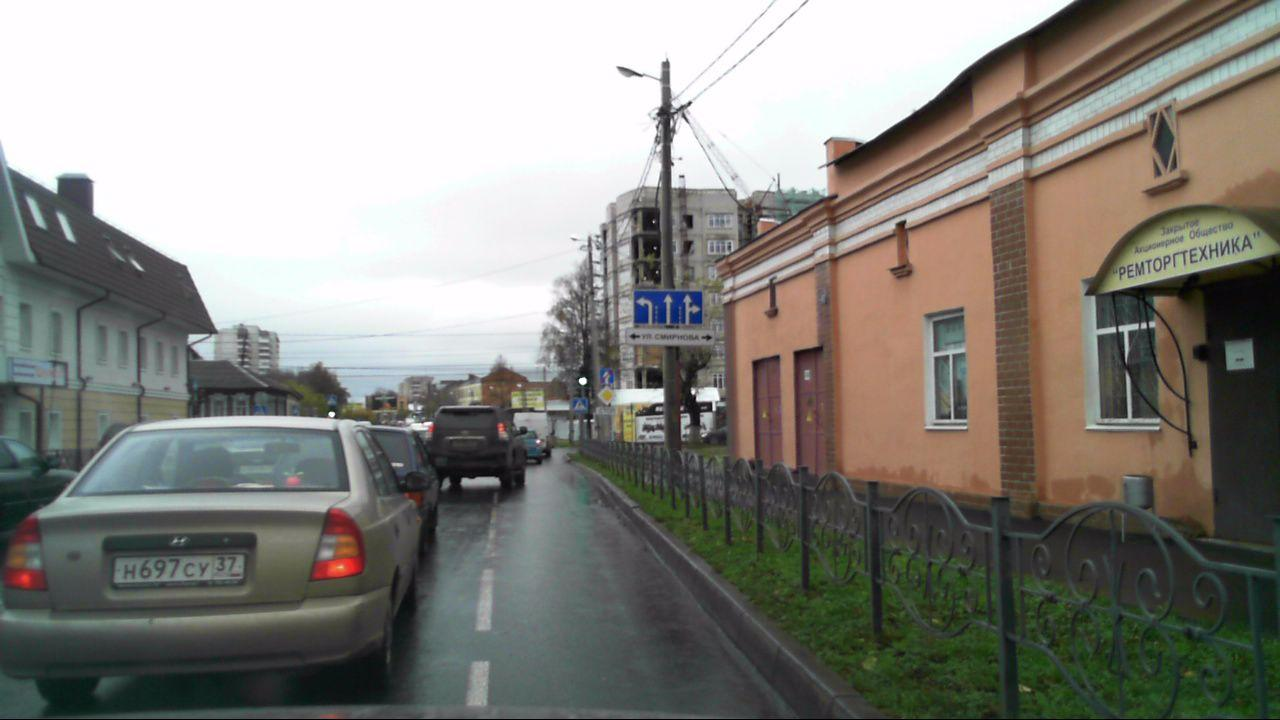2_1: (598, 385, 616, 405)
5_15_1: (634, 289, 704, 323)
5_19_1: (571, 397, 588, 413)
5_19_2: (327, 394, 338, 406), (254, 405, 266, 416)
5_6: (600, 368, 614, 384)
6_10_1: (623, 325, 715, 347)
6_16: (596, 406, 618, 415)
